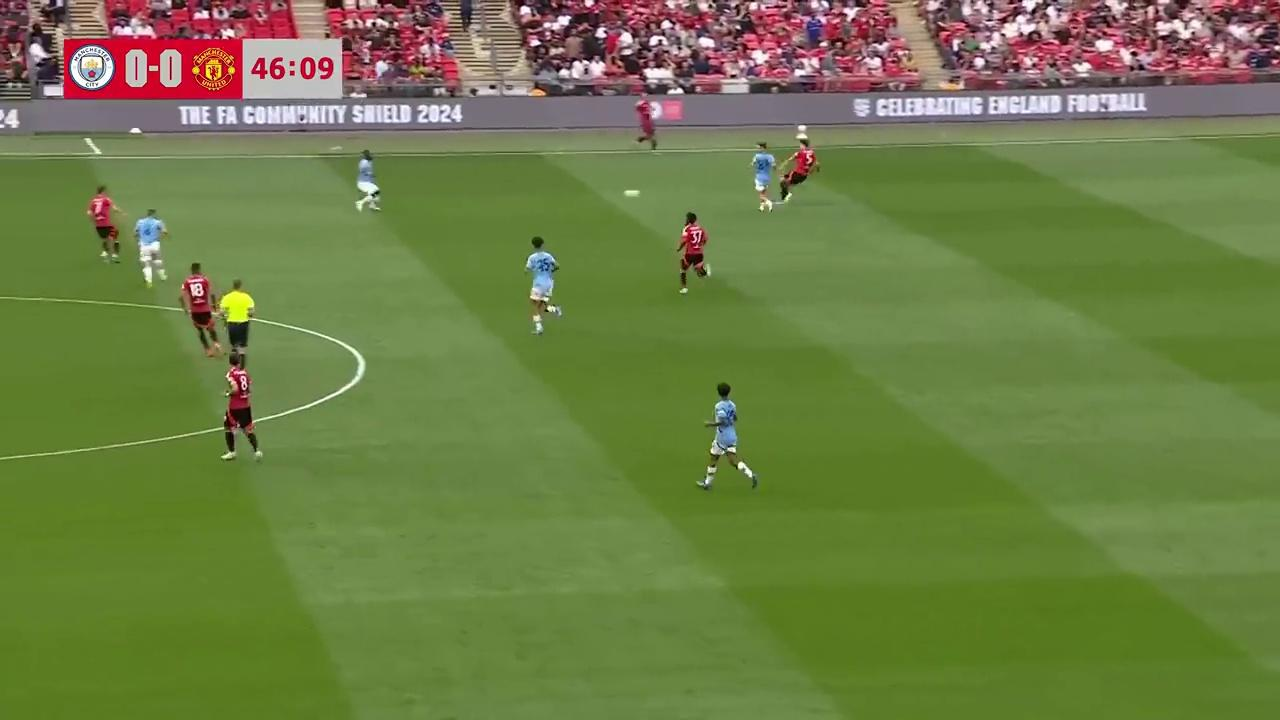ball: (621, 185, 642, 202)
player: (695, 382, 759, 492), (219, 350, 263, 462), (178, 261, 220, 356), (523, 236, 560, 335), (86, 185, 124, 262), (133, 207, 169, 287), (675, 211, 709, 295), (779, 140, 820, 201), (749, 142, 776, 212), (355, 149, 381, 212), (633, 99, 658, 151)
referee: (217, 278, 257, 363)
